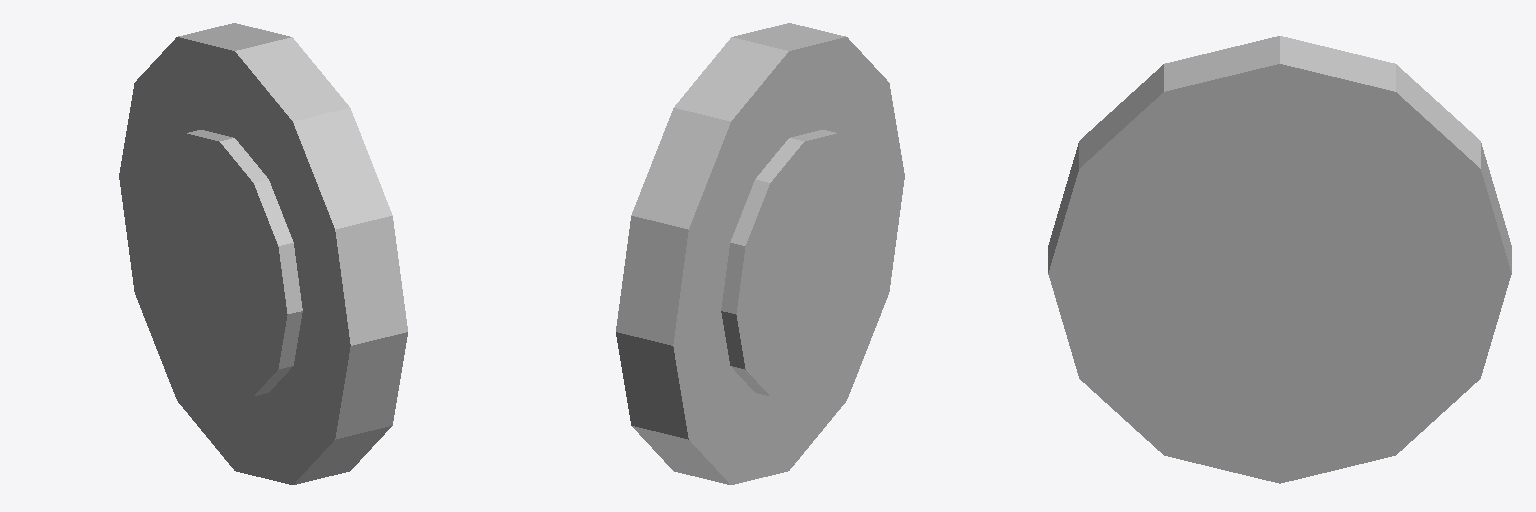
File: Panzer VI Tank Wheel.obj
3 views of the same model, side by side, from view 1: azimuth 30°, elevation 25°; view 2: azimuth 150°, elevation 25°; view 3: azimuth 270°, elevation 25° (orthographic).
Parts seen in each view (by area): view 1: Cylinder.018_Cylinder.039; view 2: Cylinder.018_Cylinder.039; view 3: Cylinder.018_Cylinder.039.
Boxes of the visible parts, box(x1,y1,x2,y2) form: Cylinder.018_Cylinder.039: box(119, 23, 407, 484); Cylinder.018_Cylinder.039: box(616, 23, 904, 484); Cylinder.018_Cylinder.039: box(1048, 36, 1511, 483).
Bounding box in the file's own units: 0.1443 × 0.7949 × 0.7949.